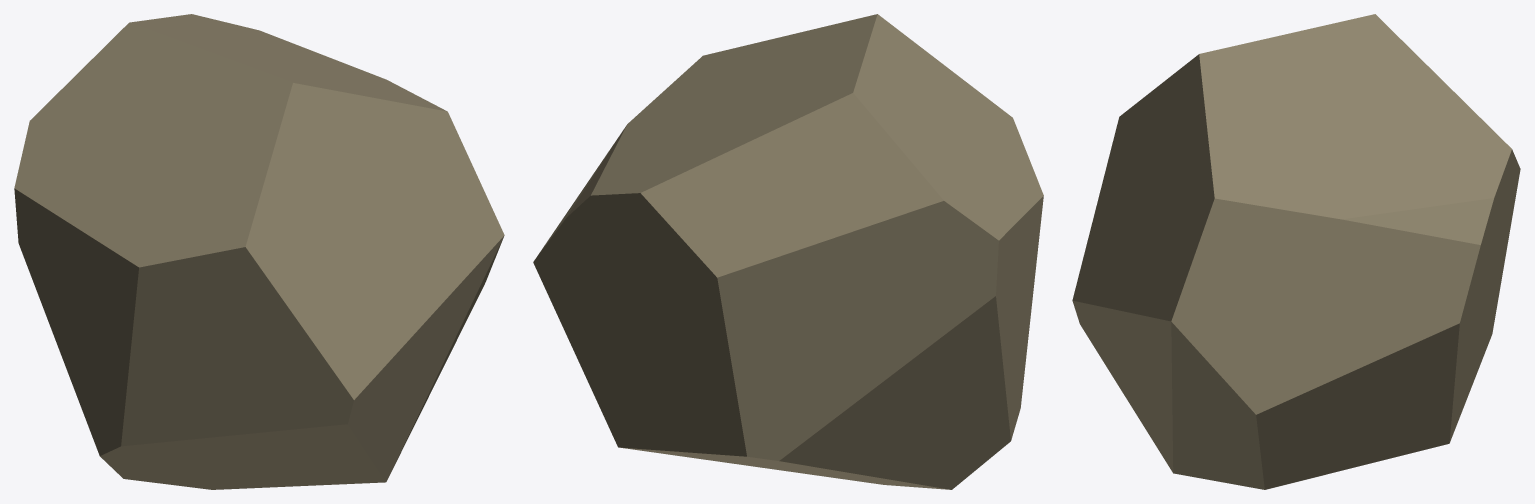
The model's file is piedra peque 1.fbx.
3 views of the same model, side by side, from view 1: azimuth 30°, elevation 25°; view 2: azimuth 150°, elevation 25°; view 3: azimuth 270°, elevation 25° (orthographic). The views are drawn at different scales.
Parts seen in each view (by area): view 1: Rock_03; view 2: Rock_03; view 3: Rock_03.
Boxes of the visible parts, bbox=[...] form: Rock_03: bbox=[14, 14, 504, 489]; Rock_03: bbox=[533, 14, 1043, 489]; Rock_03: bbox=[1072, 14, 1520, 489].
Bounding box in the file's own units: 312 × 306 × 306.
